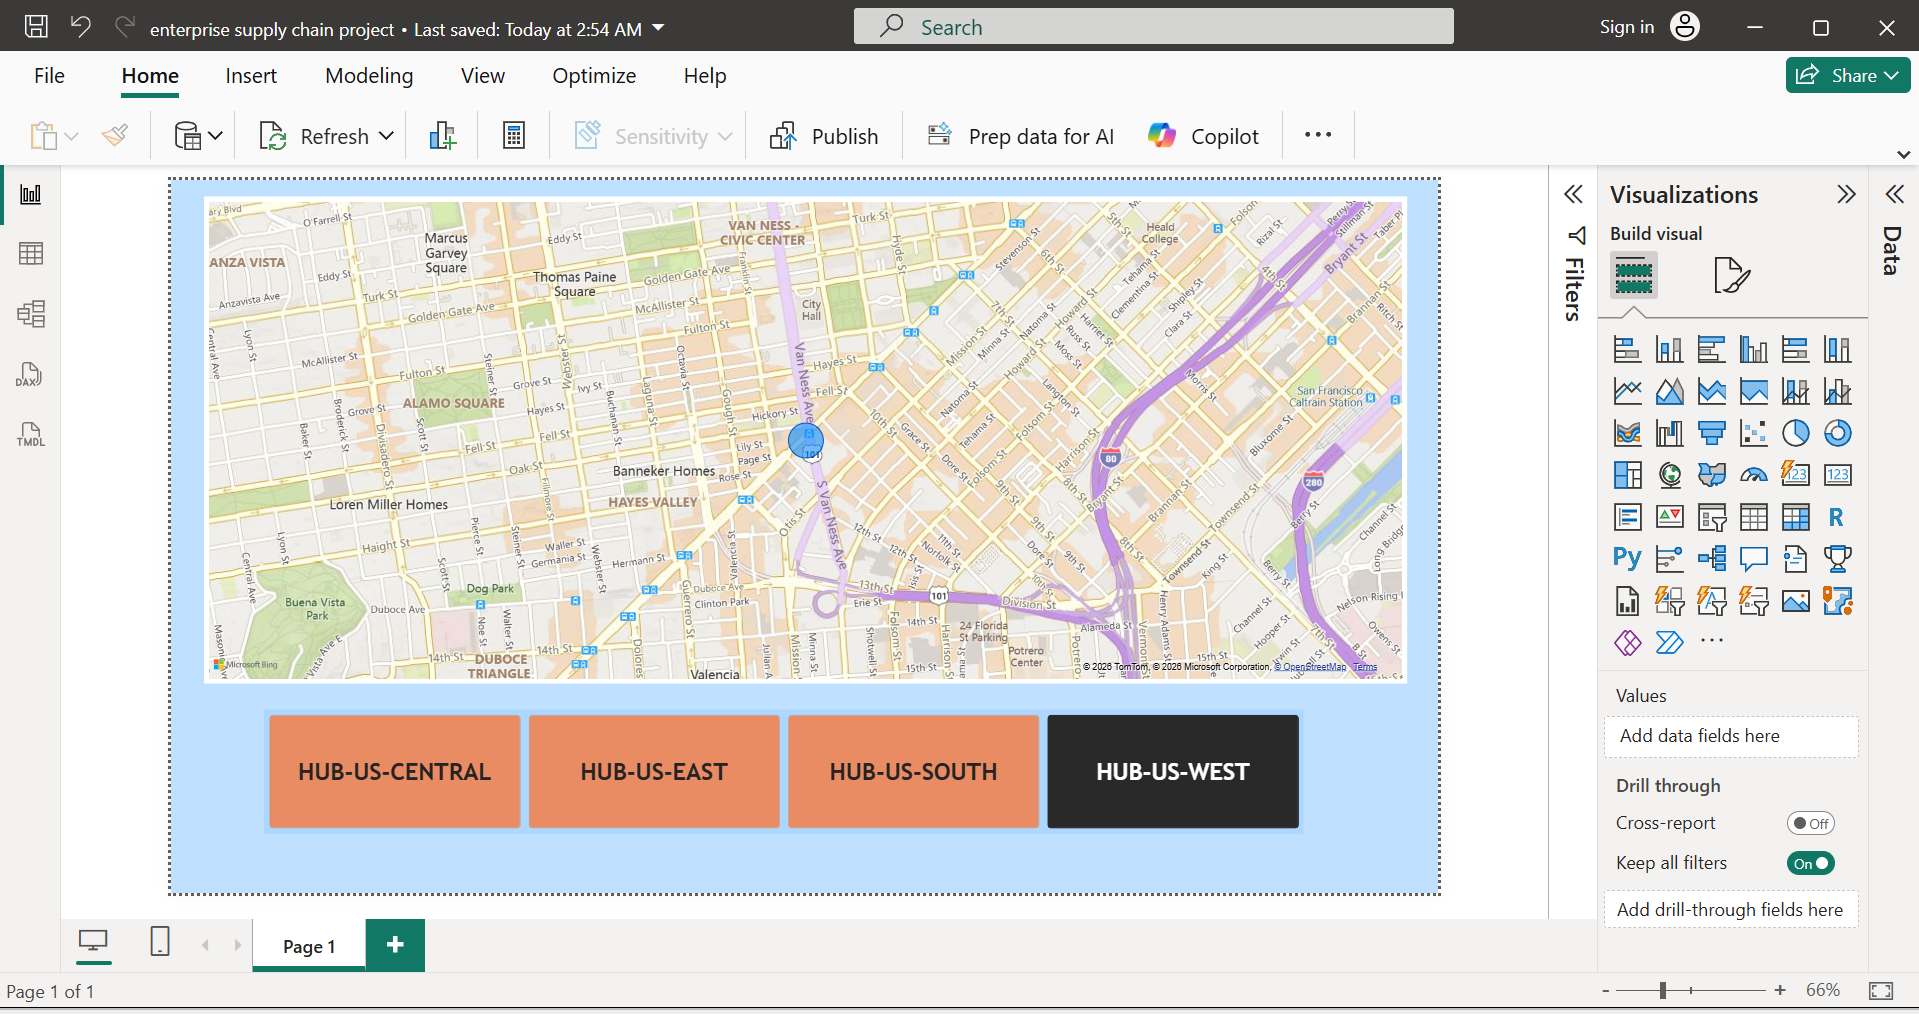

Layout of this report page (visuals, bound fields, positions):
{"tool":"powerbi","page":{"name":"Page 1","canvas":[1280,720],"ordinal":0},"visuals":[{"type":"map","fields":{"Size":["Avg(public orders.route_distance_miles)"],"Y":["public orders.hub_lat"],"X":["public orders.hub_lon"]},"box":[10.6,0,1215.9,492.1],"z":0},{"type":"advancedSlicerVisual","fields":{"Values":["public orders.hub_id"]},"box":[11,502,1104,218],"z":1}]}

Visuals, with their boxes in screenshot pixels (x1, y1, x2, y2):
map - Avg(public orders.route_distance_miles) x public orders.hub_lat: 164, 40, 1794, 700
advancedSlicerVisual - public orders.hub_id: 165, 713, 1644, 1005
